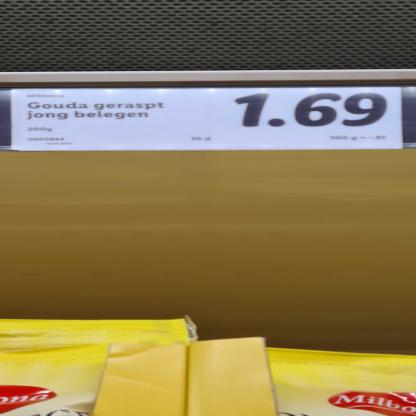prtg: (12, 89, 404, 151)
